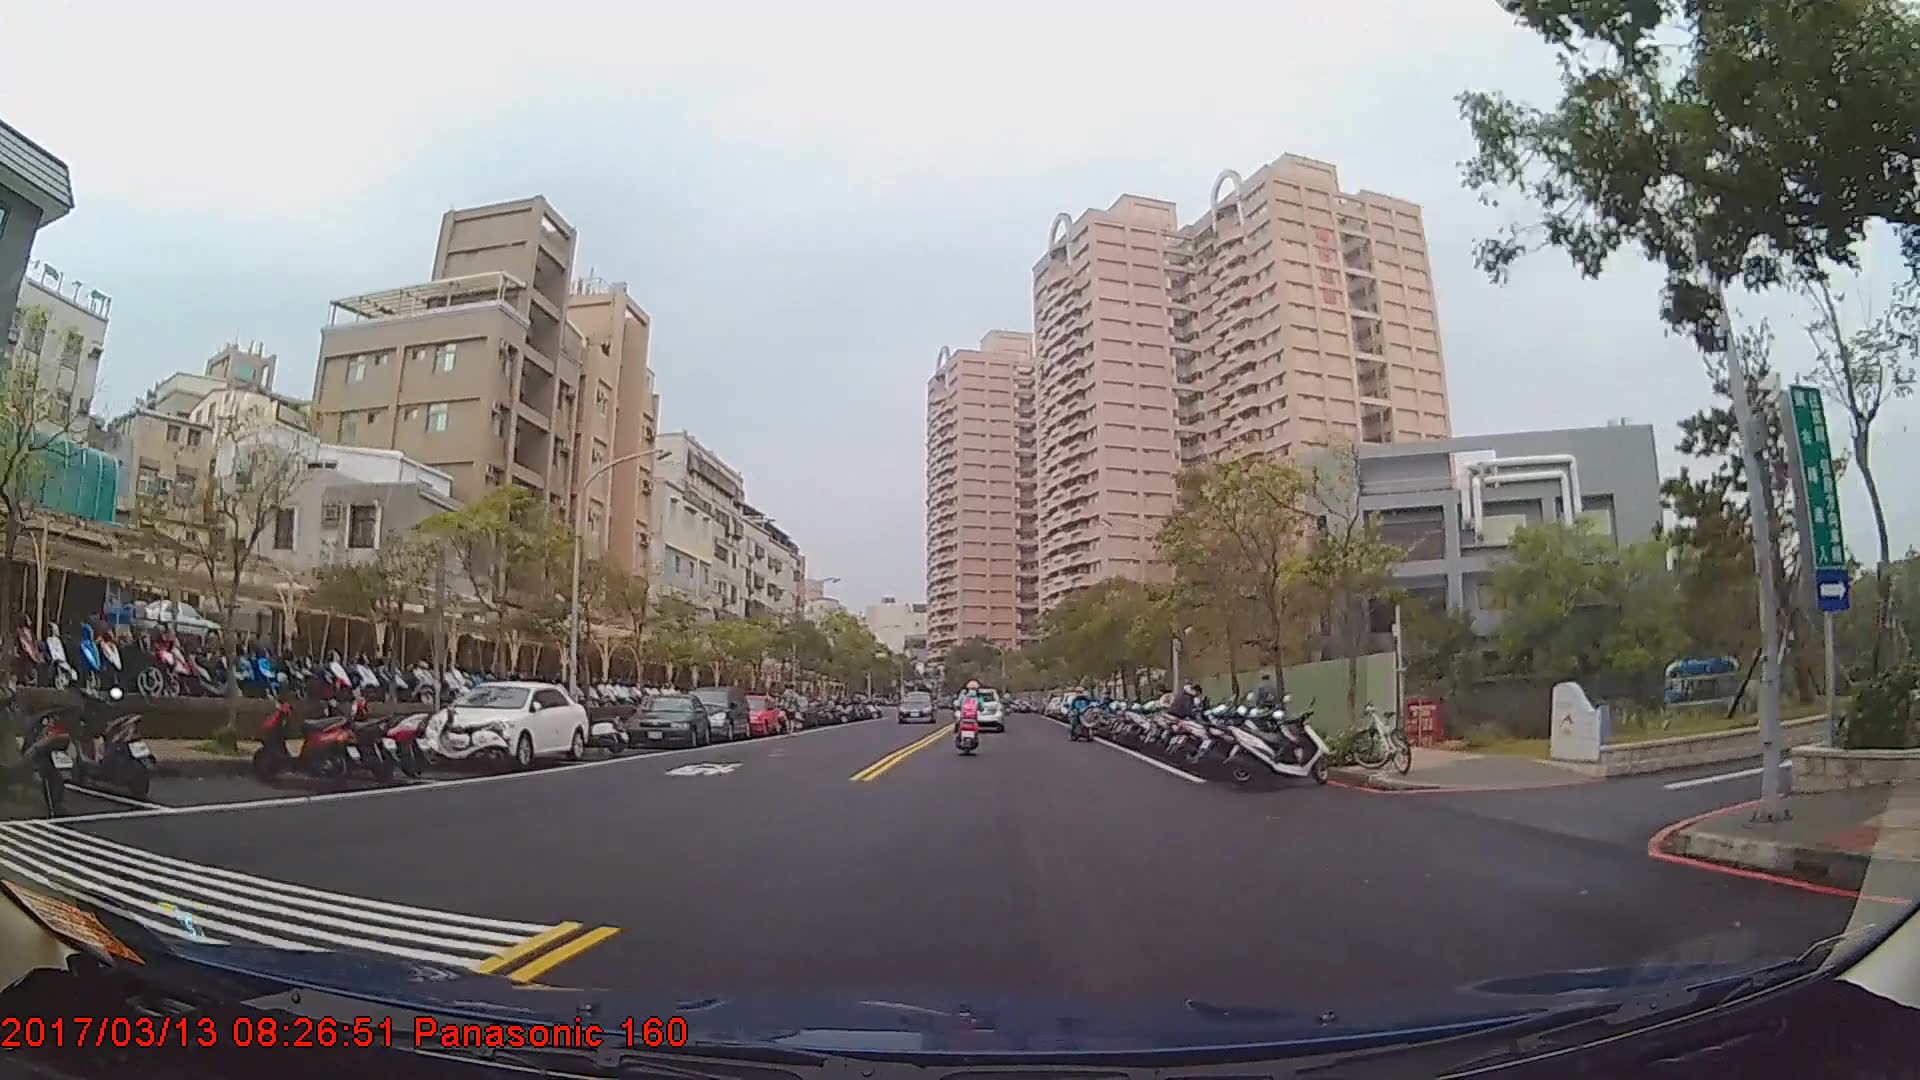pedestrian: (1171, 683, 1205, 753), (779, 684, 808, 741), (1255, 676, 1282, 734)
rider: (957, 683, 987, 755), (1069, 686, 1094, 744)
vehicle: (423, 680, 586, 770), (624, 692, 709, 750), (682, 686, 748, 742), (952, 683, 1004, 732), (727, 692, 781, 737), (897, 688, 932, 724)
